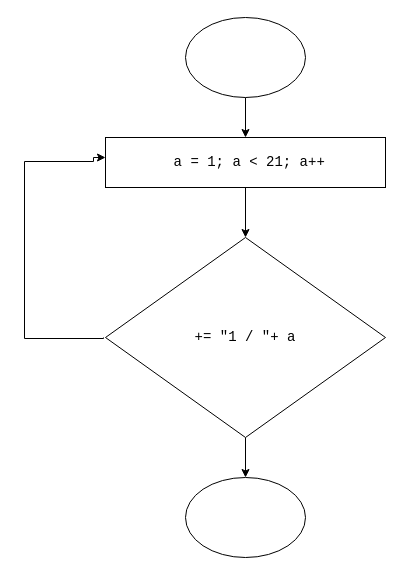
Image size: 403x575. Some labels were removed from this diagram. The shapes that lost their labels are listed below. From the top down, each one's box as (x1, y1, x2, y2) in pixels, then its label:
(184, 16, 306, 98): inicio
(184, 476, 306, 558): fim
